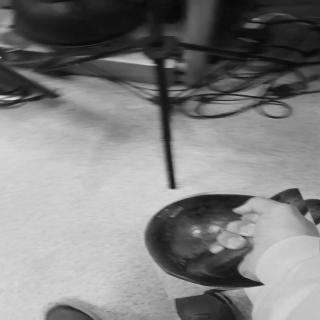kettlebell: (135, 186, 320, 295)
